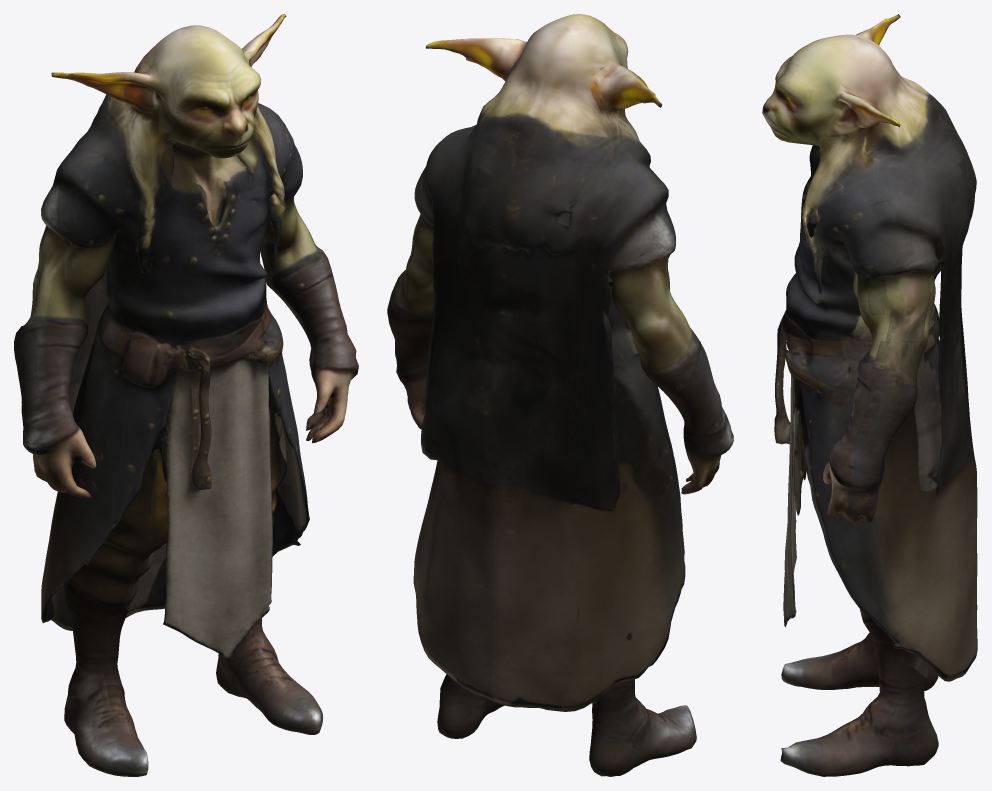
The model's file is goblinhumanoid.glb.
The picture shows the model from 3 angles, left to right: view 1: azimuth 30°, elevation 25°; view 2: azimuth 150°, elevation 25°; view 3: azimuth 270°, elevation 25°; orthographic projection. The views are drawn at different scales.
Parts seen in each view (by area): view 1: Mesh_0; view 2: Mesh_0; view 3: Mesh_0.
Boxes of the visible parts, x1,y1,x2,y2 form: Mesh_0: (14, 14, 358, 776); Mesh_0: (387, 14, 733, 776); Mesh_0: (762, 14, 977, 776).
Bounding box in the file's own units: 0.9774 × 2 × 0.5674.
1 material, 1 textured.
